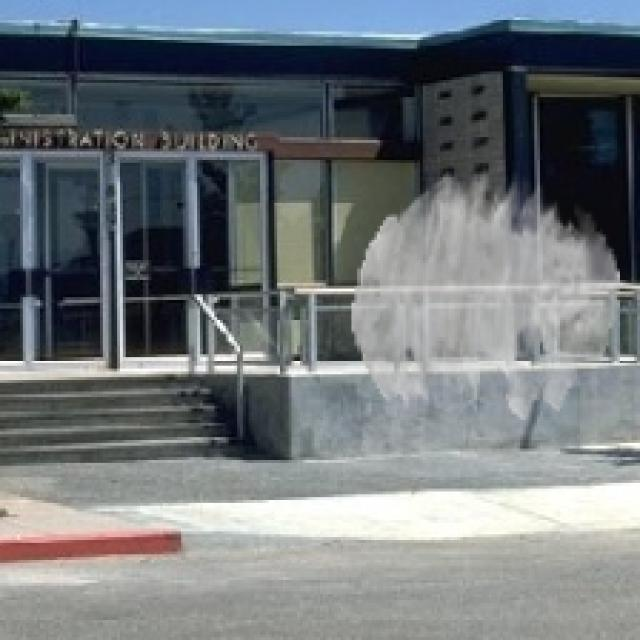smoke: (351, 169, 620, 420)
